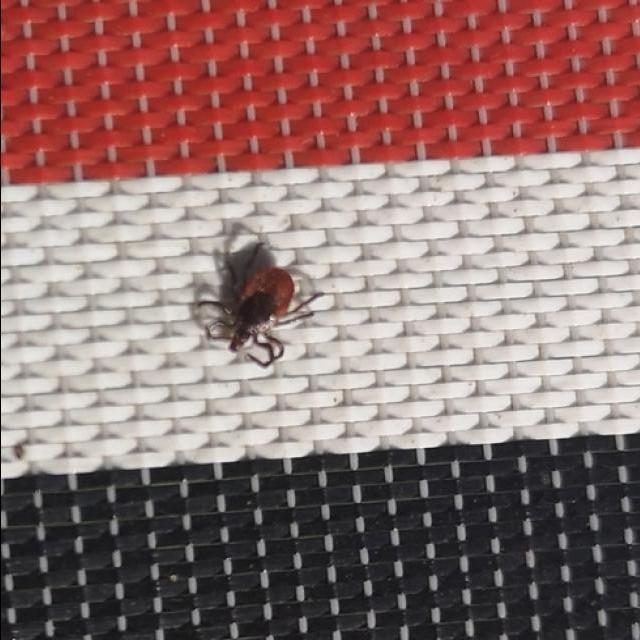Ixodes Ricinus-F: (199, 242, 323, 369)
